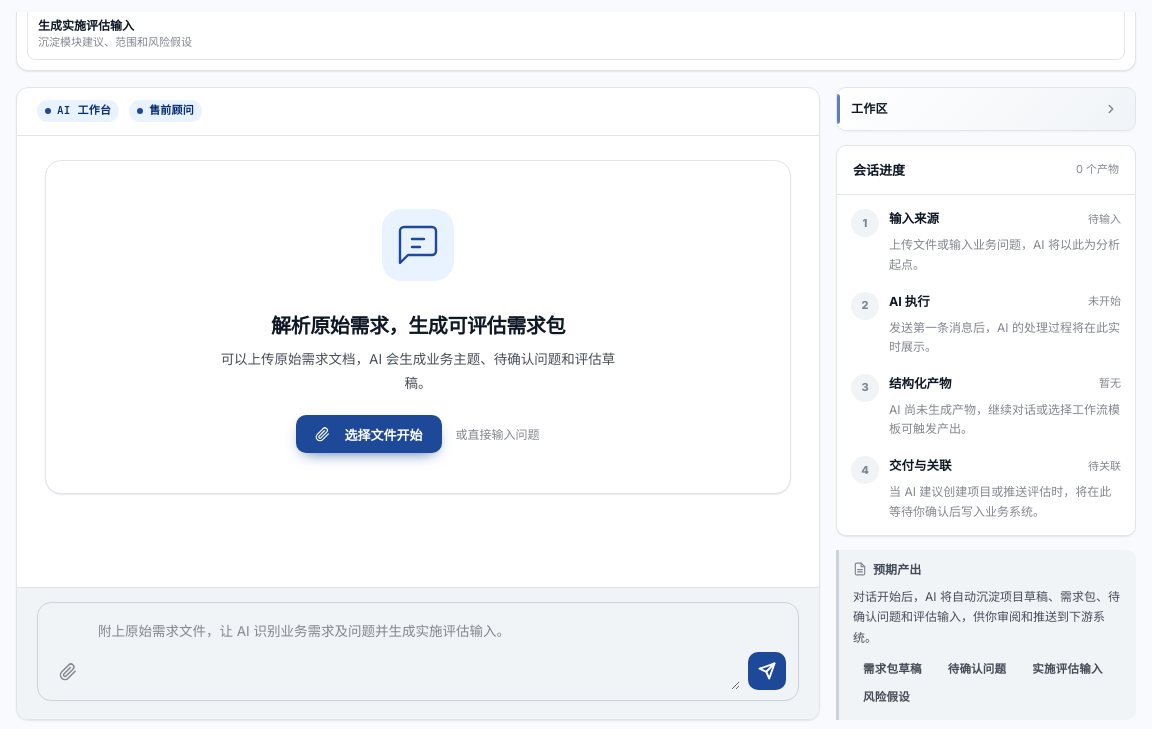
Test: unified-view: O5 统一视图首屏接入 › unified-view: 发问后顶栏「后台任务 进行中」角标 2s 内由无到 1（ISS-2026-08-10-003 用户症状复现）
(page scrolled)
Expected: the text "后台任务 进行中" is not shown
Type "帮我评估这个项目" into the text box named "AI 工作台输入".
click(417, 652); type("帮我评估这个项目")  # box [94,614,740,690]
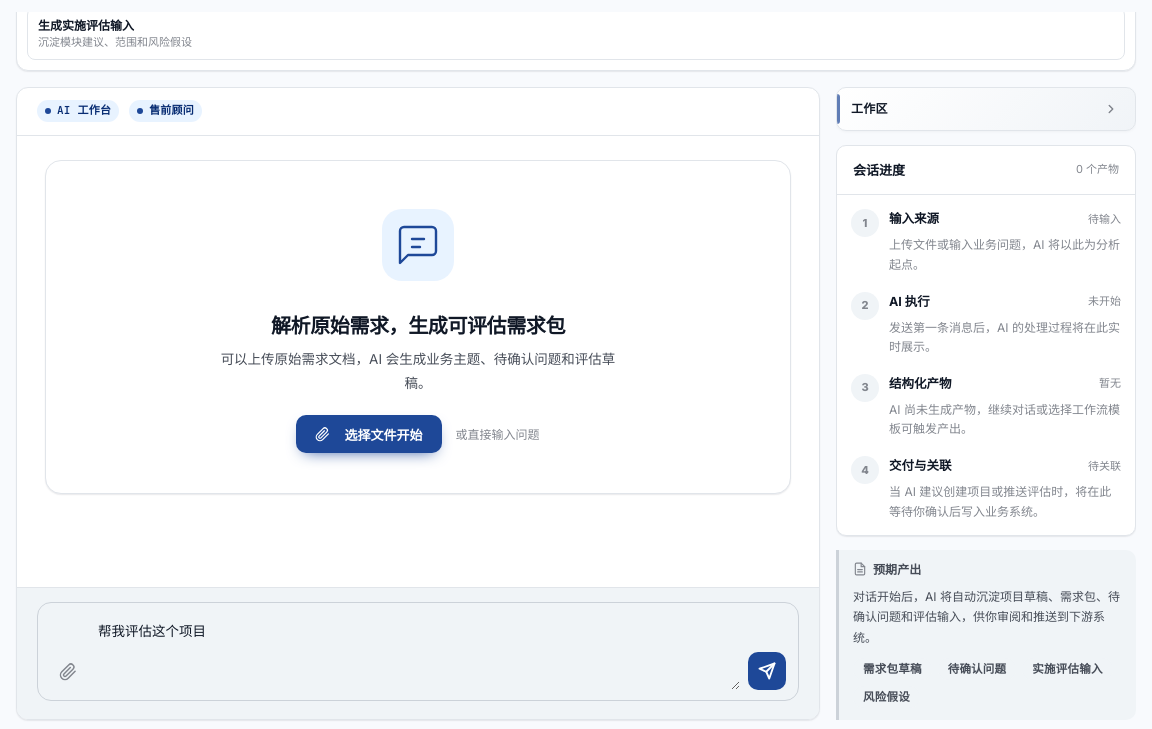
Click the button named "发送消息".
click(767, 671)  # box [748,652,786,690]
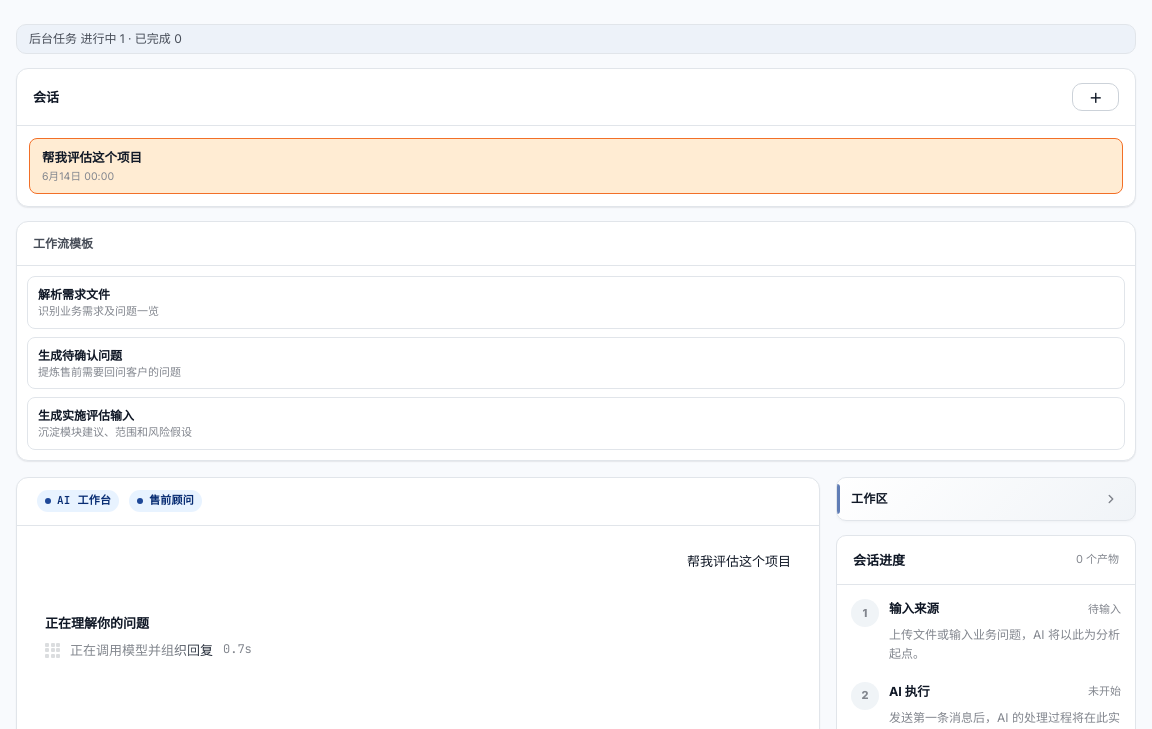
Now the text "后台任务 进行中 1 · 已完成 0" is shown, box [29,31,182,46]
